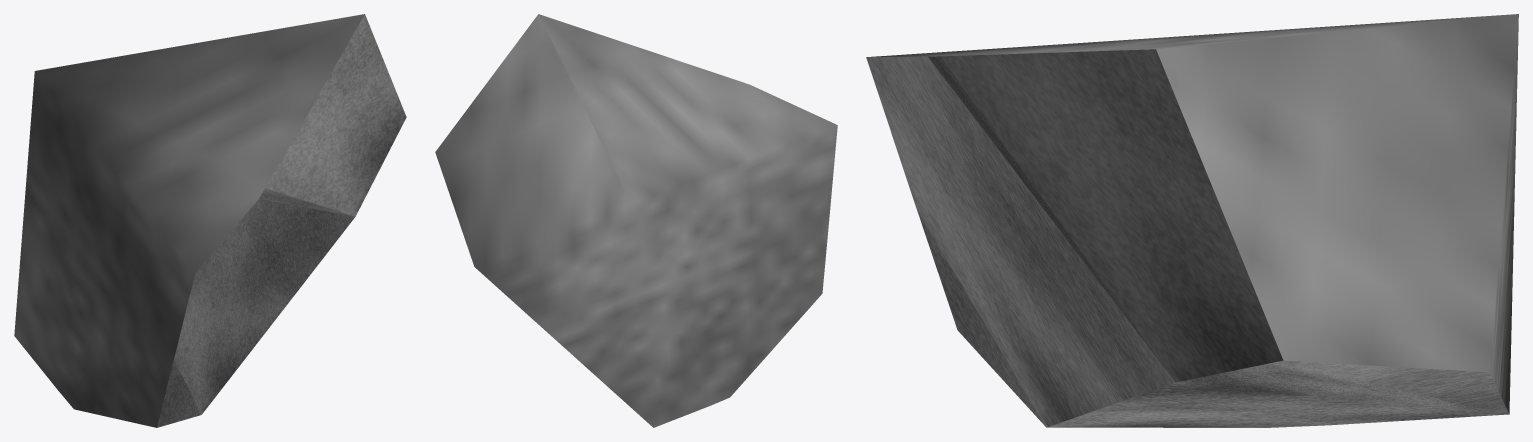
Rendered from leg_3_cell_001.fbx.
The picture shows the model from 3 angles, left to right: view 1: azimuth 30°, elevation 25°; view 2: azimuth 150°, elevation 25°; view 3: azimuth 270°, elevation 25°; orthographic projection. The views are drawn at different scales.
Parts seen in each view (by area): view 1: leg_3_cell.001; view 2: leg_3_cell.001; view 3: leg_3_cell.001.
Part boxes in pixels (bbox=[...]): leg_3_cell.001: bbox=[14, 14, 406, 427]; leg_3_cell.001: bbox=[435, 14, 837, 427]; leg_3_cell.001: bbox=[866, 14, 1518, 427].
Size of the model in its own units: 20.09 by 19.64 by 19.93.
